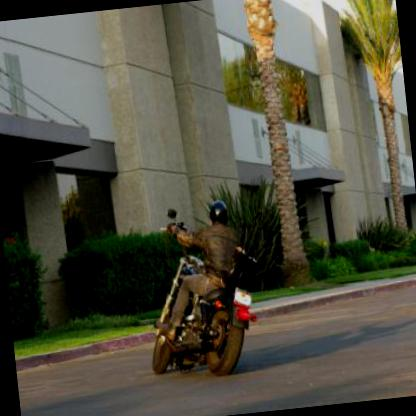motorcycle: (144, 218, 268, 350)
